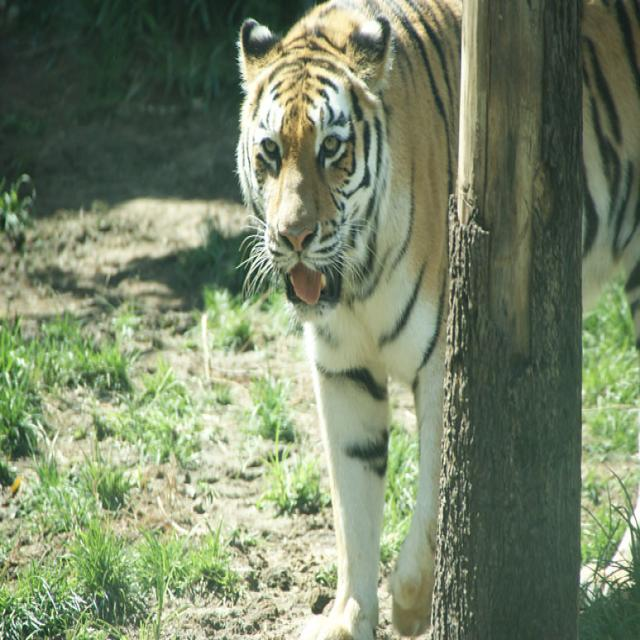Tiger: (233, 0, 639, 638)
